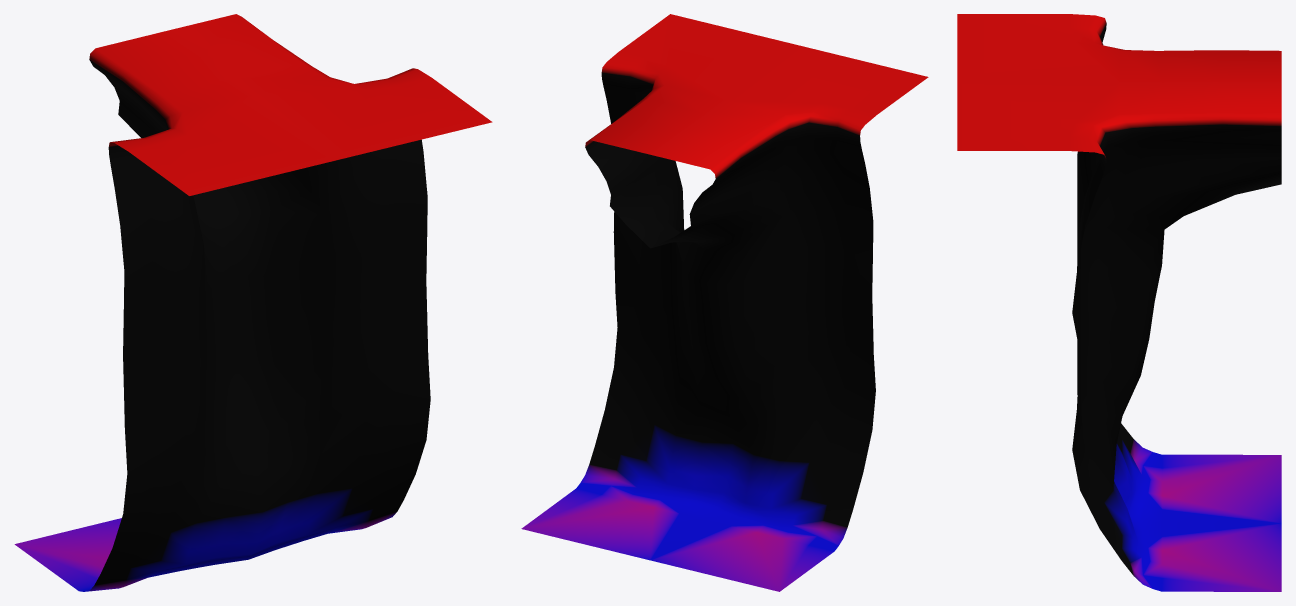
The model's file is CrossingCliff03A 3M for Water Background.fbx.
The picture shows the model from 3 angles, left to right: view 1: azimuth 30°, elevation 25°; view 2: azimuth 150°, elevation 25°; view 3: azimuth 270°, elevation 25°; orthographic projection. The views are drawn at different scales.
Visible parts, largest first — view 1: CrossingCliff03A 3M for Water Background; view 2: CrossingCliff03A 3M for Water Background; view 3: CrossingCliff03A 3M for Water Background.
Part boxes in pixels (left/top/right/bottom): CrossingCliff03A 3M for Water Background: left=14, top=14, right=492, bottom=591; CrossingCliff03A 3M for Water Background: left=521, top=14, right=928, bottom=591; CrossingCliff03A 3M for Water Background: left=957, top=14, right=1281, bottom=591.
Bounding box in the file's own units: 2 × 3.01 × 2.
